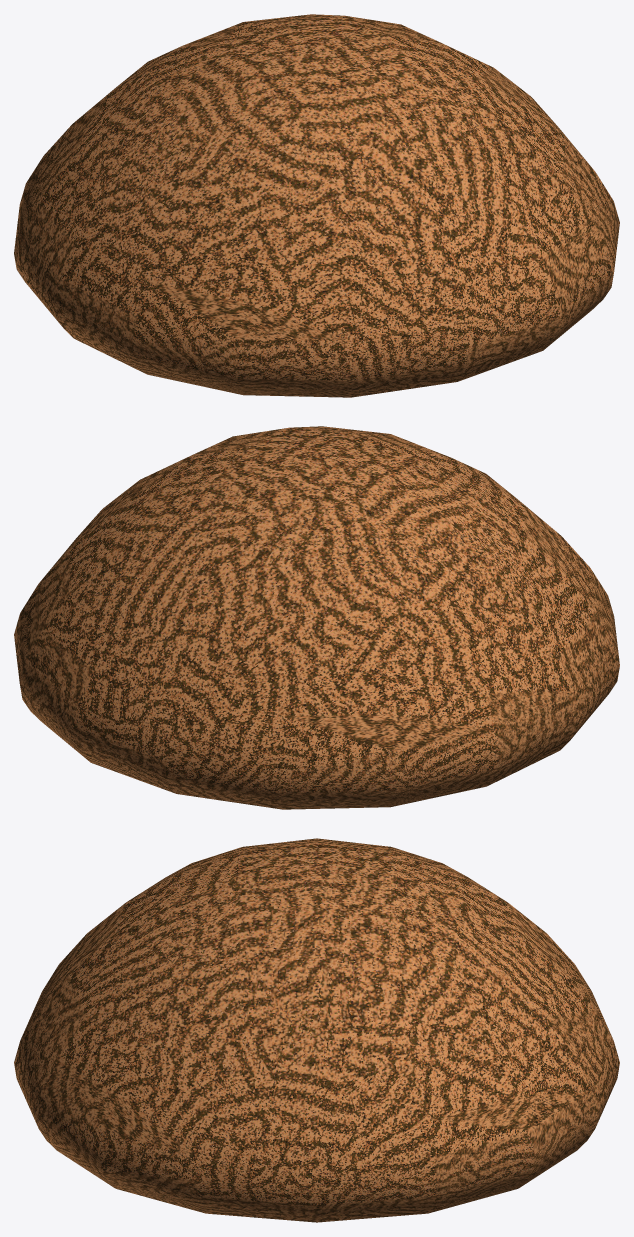
Rendered from 27-Brain.fbx.
3 renders of one model, top to bottom at view 1: azimuth 30°, elevation 25°; view 2: azimuth 150°, elevation 25°; view 3: azimuth 270°, elevation 25°, orthographic.
Visible parts, largest first — view 1: 27-Brain_LOD00; view 2: 27-Brain_LOD00; view 3: 27-Brain_LOD00.
Part boxes in pixels (<box>): 27-Brain_LOD00: <box>14,14,619,397</box>; 27-Brain_LOD00: <box>14,426,619,809</box>; 27-Brain_LOD00: <box>14,838,619,1222</box>.
Size of what is drawn, in the model's own units: 45.65 by 19.71 by 45.65.
